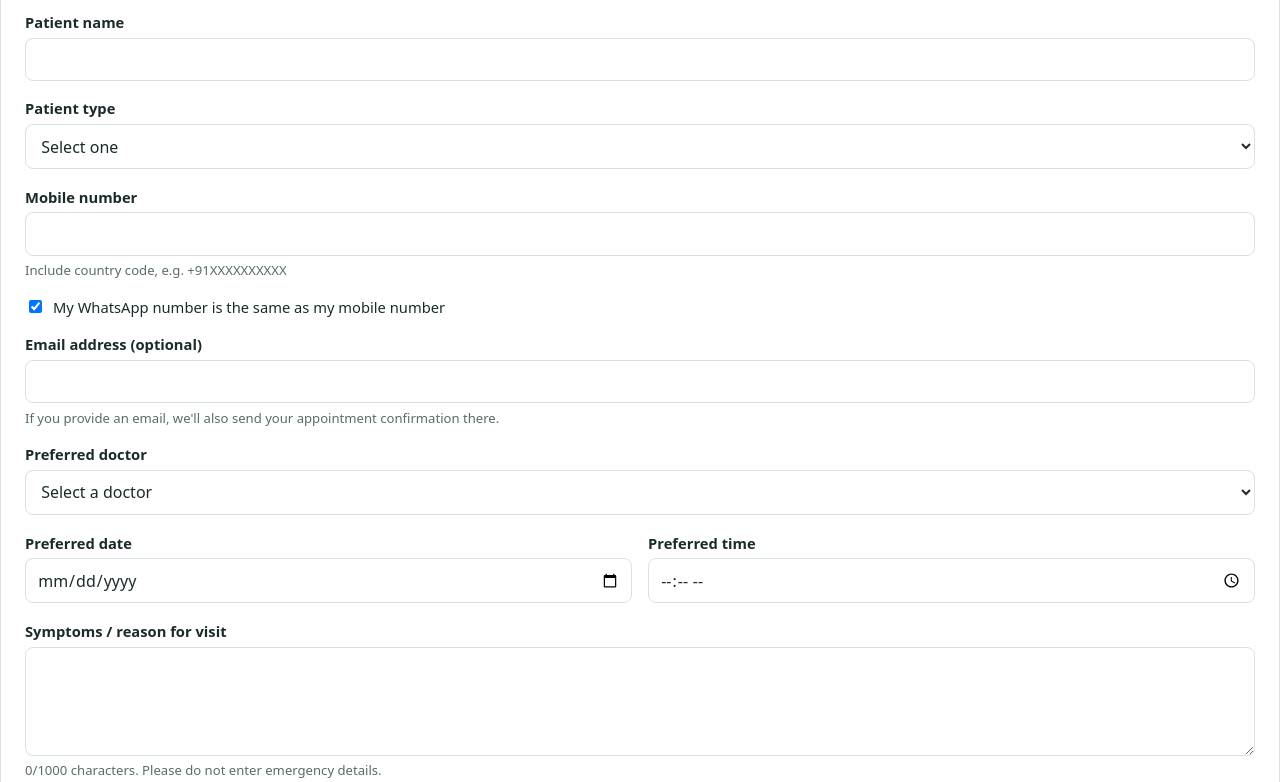
Scenario: BookingForm › rejects an invalid email address but allows an empty one
Type "not-an-email" into the field labelled "Email address (optional)".
click(640, 382); type("not-an-email")  # box x1=25 y1=360 x2=1255 y2=403
(page scrolled)
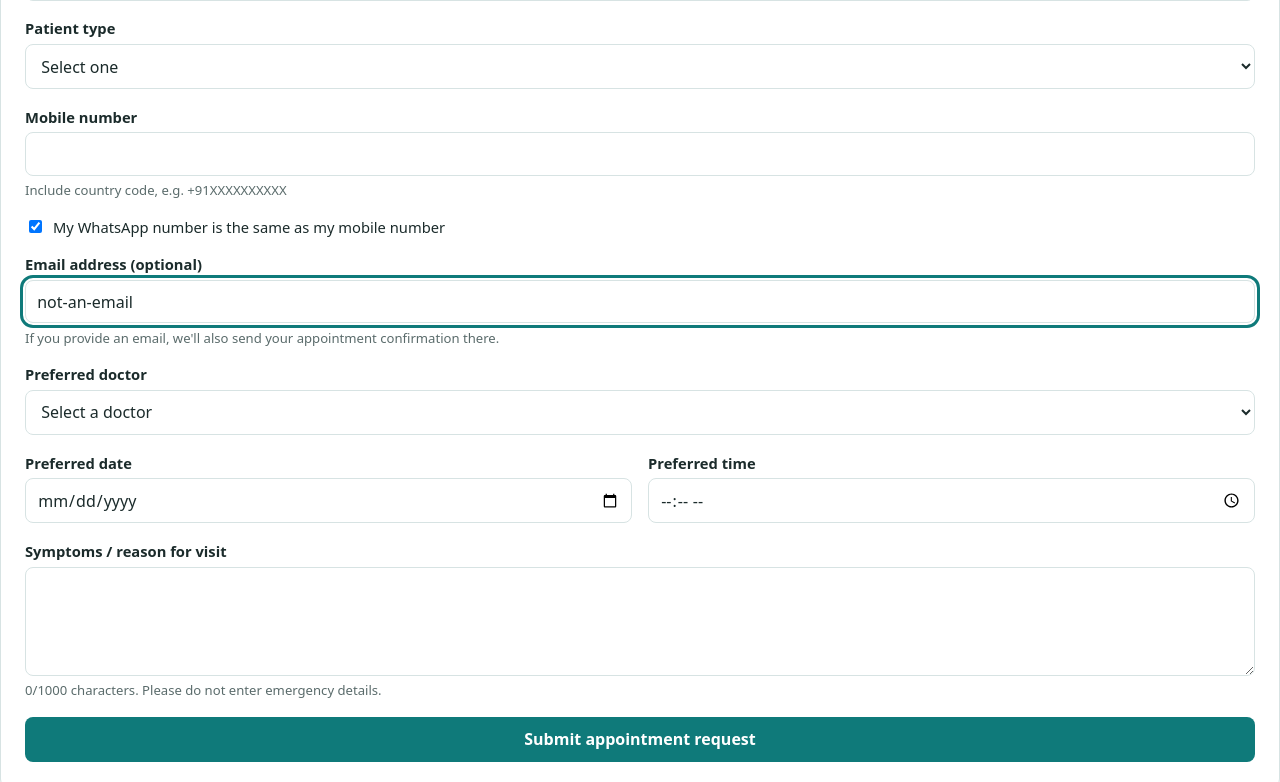
Click the button "Submit appointment request".
click(640, 739)  # box x1=25 y1=717 x2=1255 y2=762
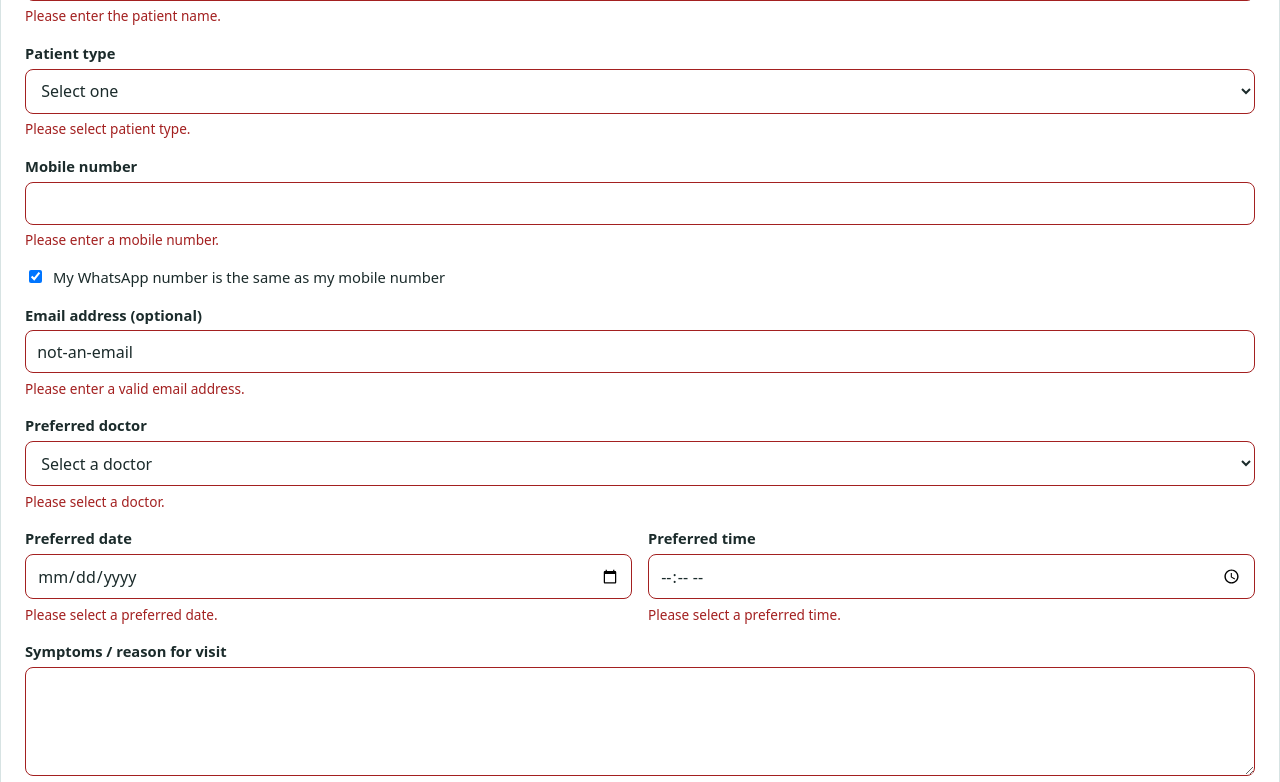
Result: the text "Please enter a valid email address." is shown at x1=25 y1=379 x2=245 y2=398
